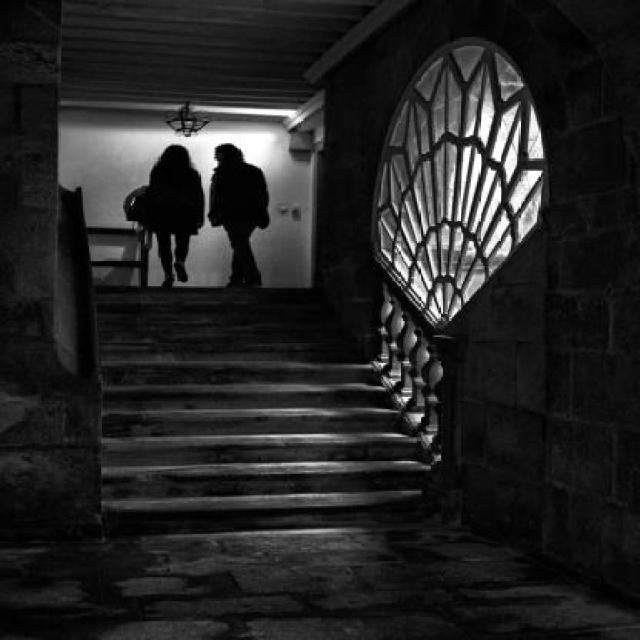stair: (94, 283, 451, 540)
